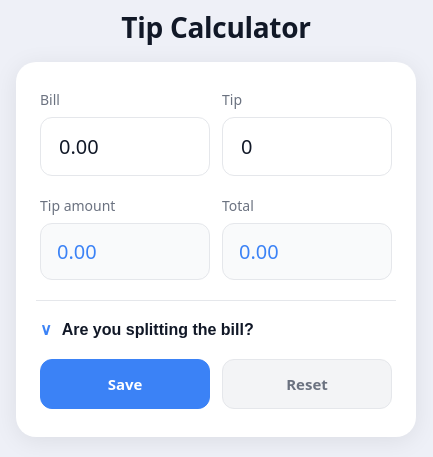
Test: App – Bill input › normalizes on blur
Replace the text in the field labelled "Bill" with "50" at [125, 146], box [57,132,193,160]
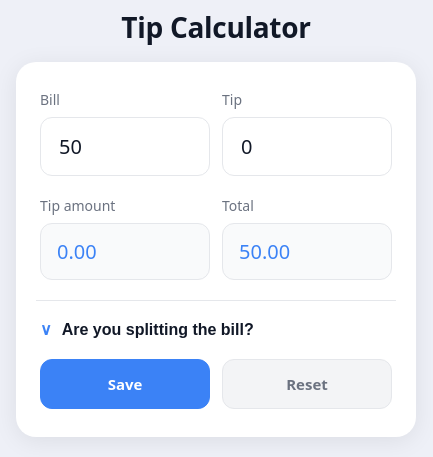
Press Tab
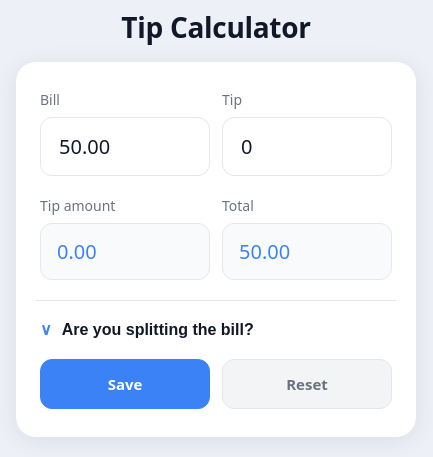
Check: the field labelled "Bill" holds "50.00", box [57,132,193,160]
